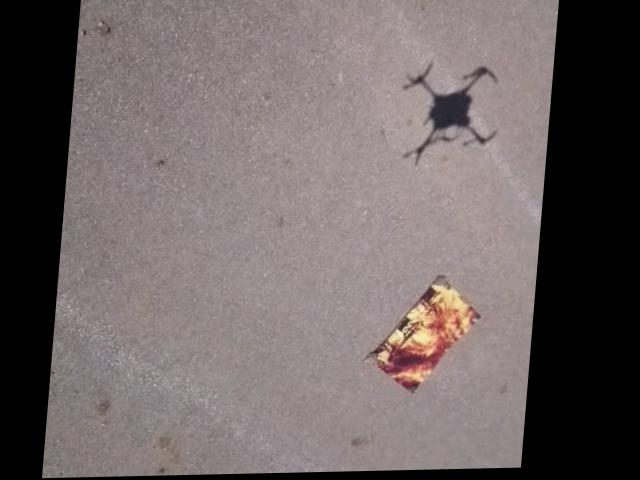fire-poster: (367, 274, 491, 398)
